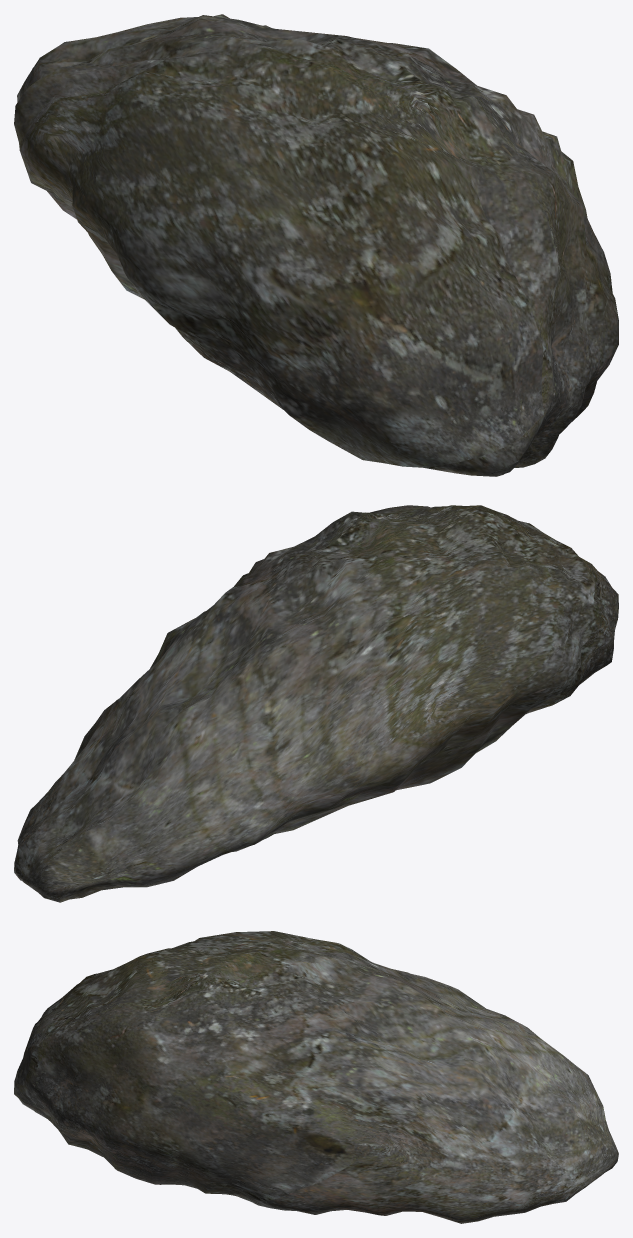
File: SL_Rock_1.fbx
The picture shows the model from 3 angles, top to bottom: view 1: azimuth 30°, elevation 25°; view 2: azimuth 150°, elevation 25°; view 3: azimuth 270°, elevation 25°; orthographic projection. The views are drawn at different scales.
Visible parts, largest first — view 1: Cube; view 2: Cube; view 3: Cube.
Part boxes in pixels (<box>): Cube: <box>14,14,618,476</box>; Cube: <box>14,505,618,902</box>; Cube: <box>14,931,618,1223</box>.
Size of the model in its own units: 723 by 457 by 1288.
Materials: 1 (1 with a texture image).
